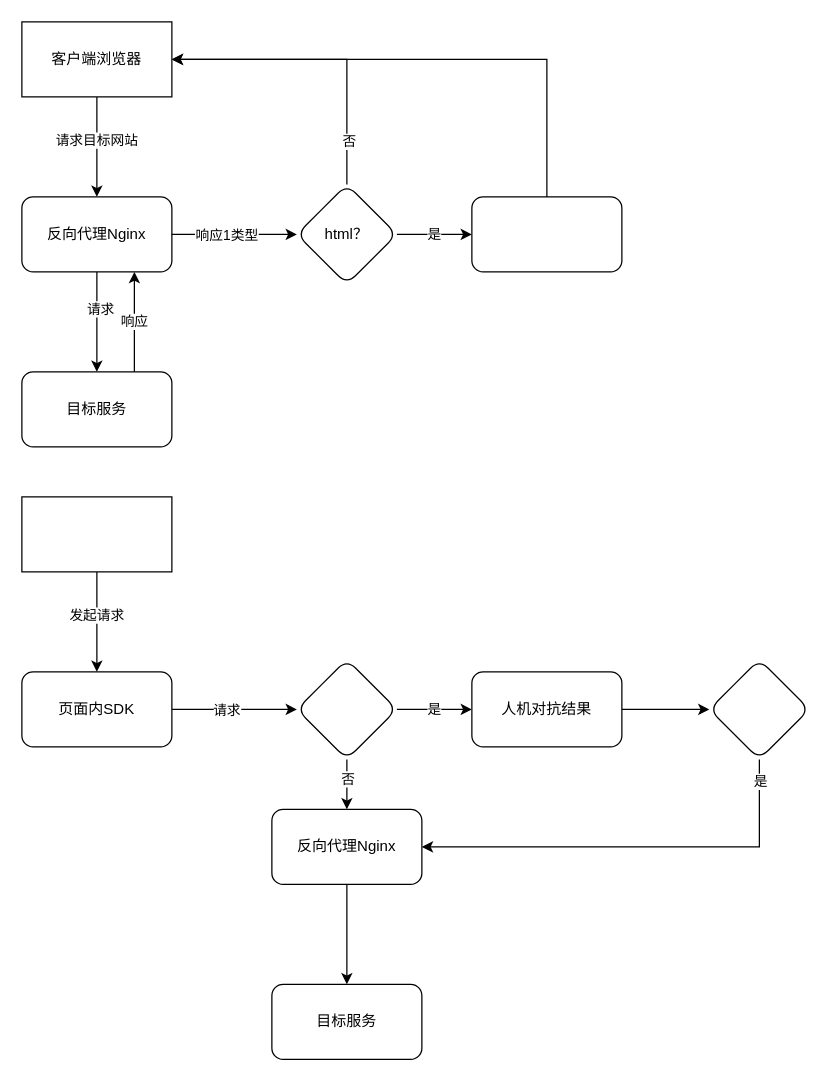
Image size: 831x1081. Some labels were removed from this diagram. Each missing label, with the centre of its shape:
pass？: point (758, 708)
受保护API？: point (346, 708)
注入SDK到页面: point (546, 234)
注入sdk的前端页面: point (96, 534)
